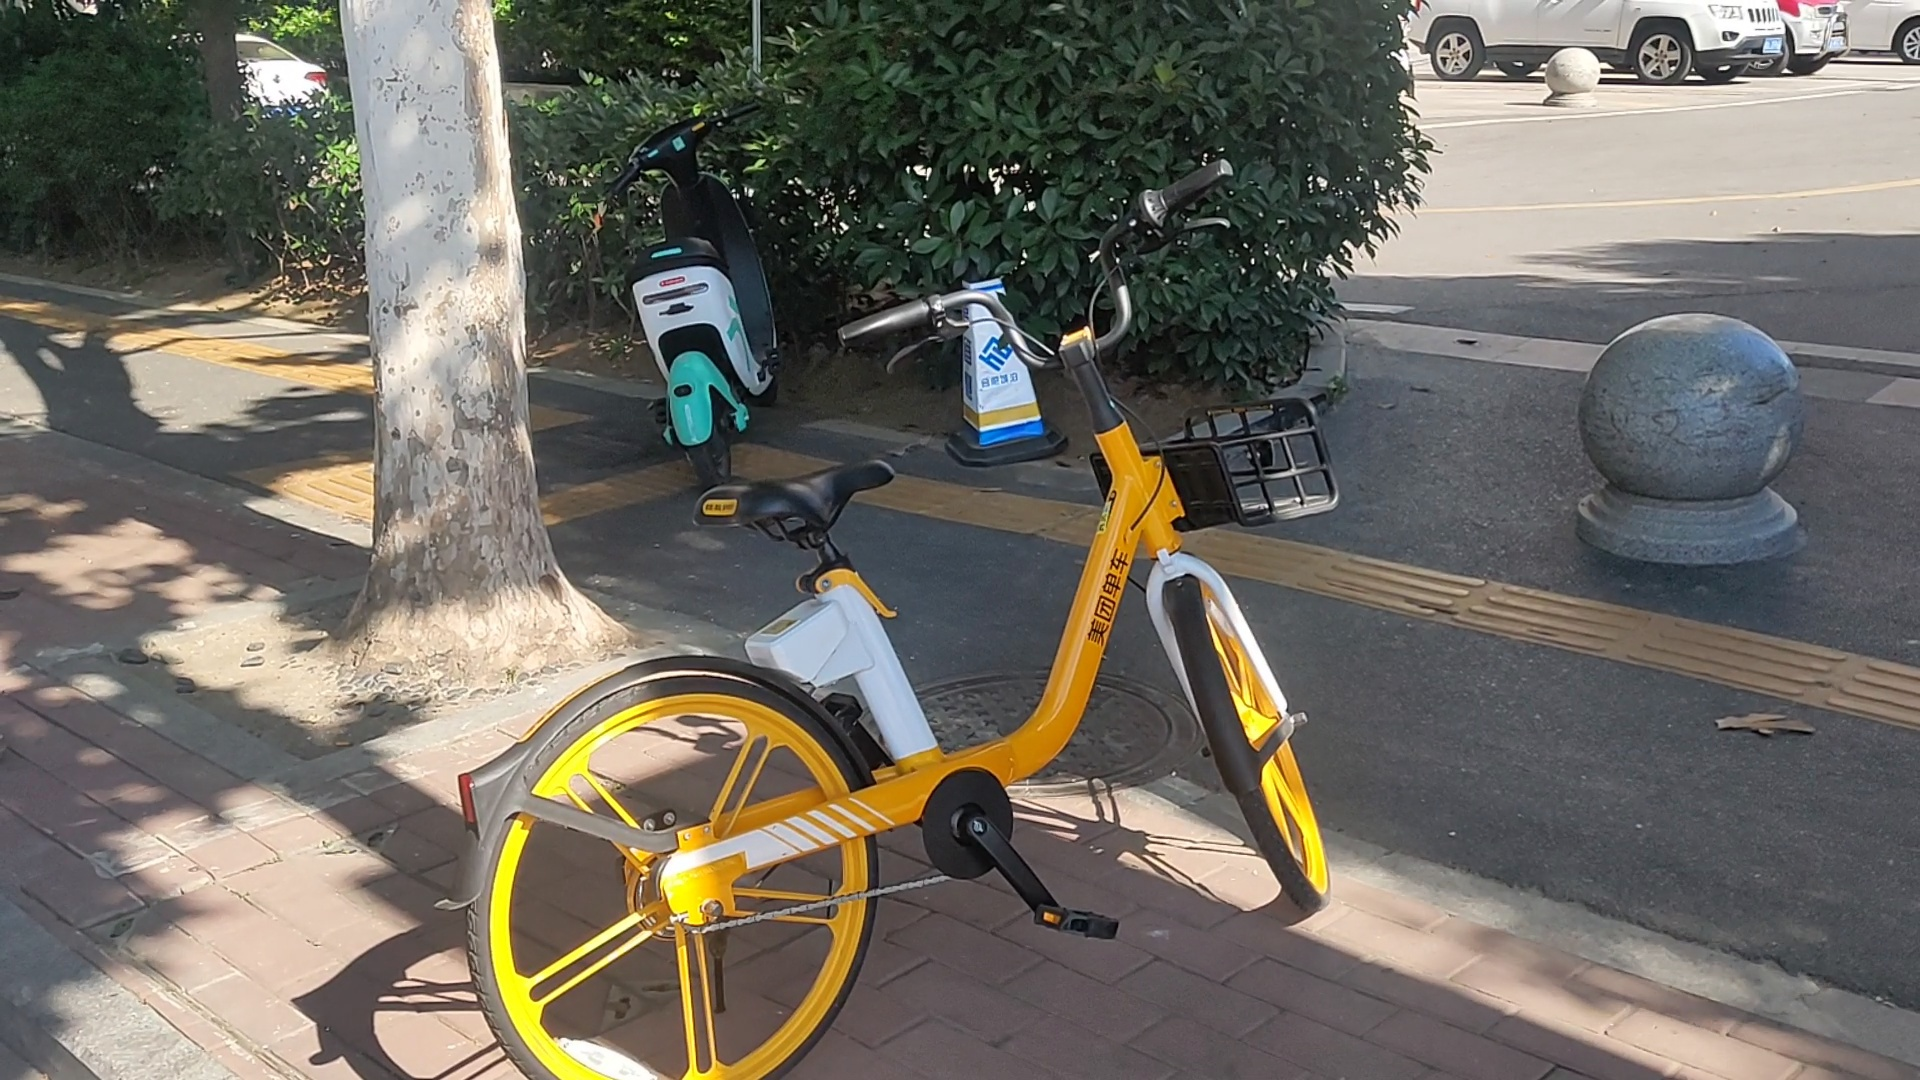non-vehicle: (520, 79, 1333, 1080), (595, 88, 785, 491)
